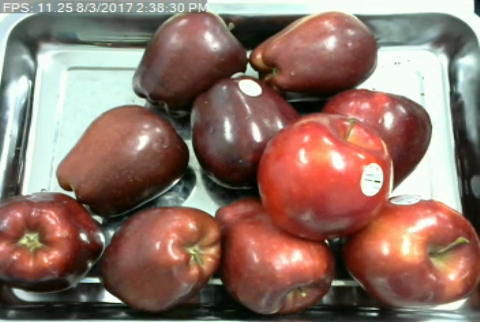Apple: (254, 111, 394, 243), (334, 193, 480, 312), (53, 103, 192, 217), (94, 205, 228, 319), (185, 70, 309, 192), (214, 194, 337, 316), (128, 9, 252, 118), (318, 86, 437, 194), (247, 8, 380, 102), (0, 190, 108, 297)
